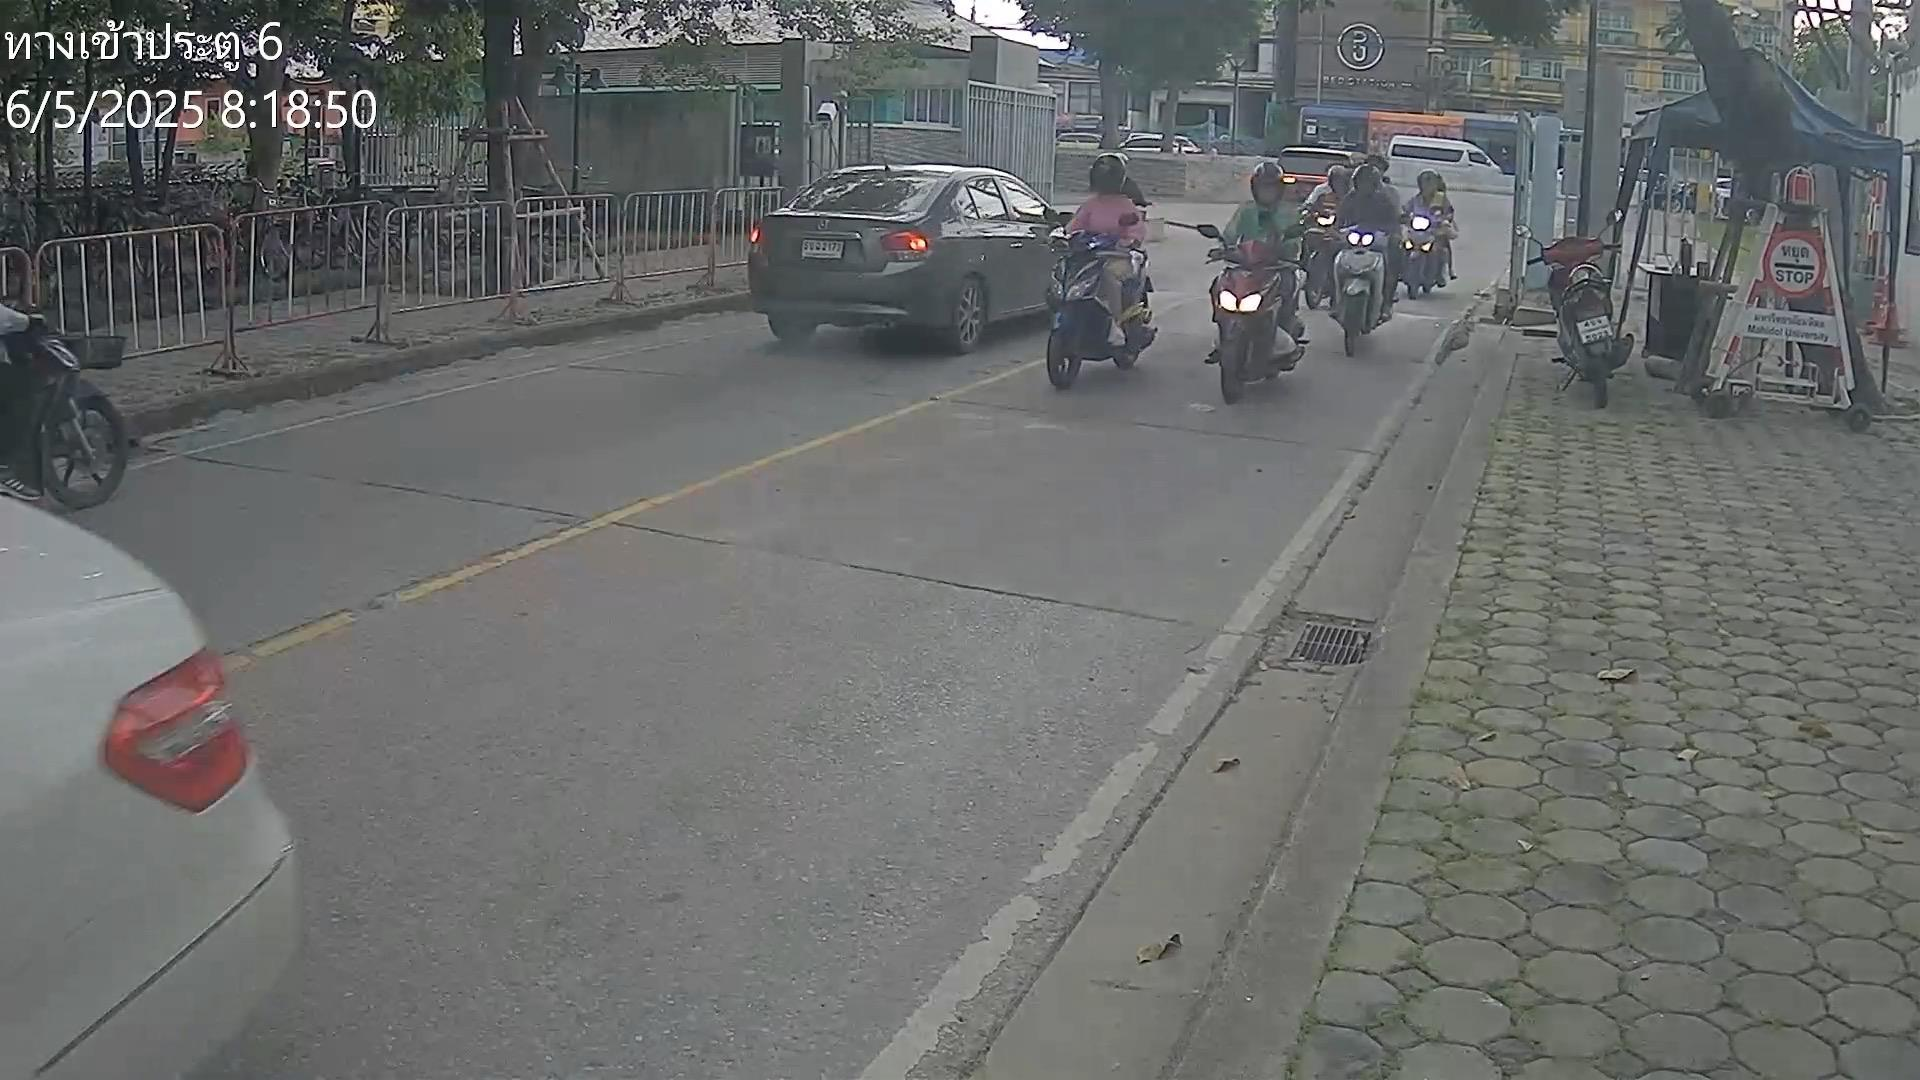With-Helmet: (1087, 152, 1133, 191), (1249, 160, 1287, 203), (1350, 164, 1383, 199), (1327, 164, 1350, 193), (1414, 167, 1437, 195)
